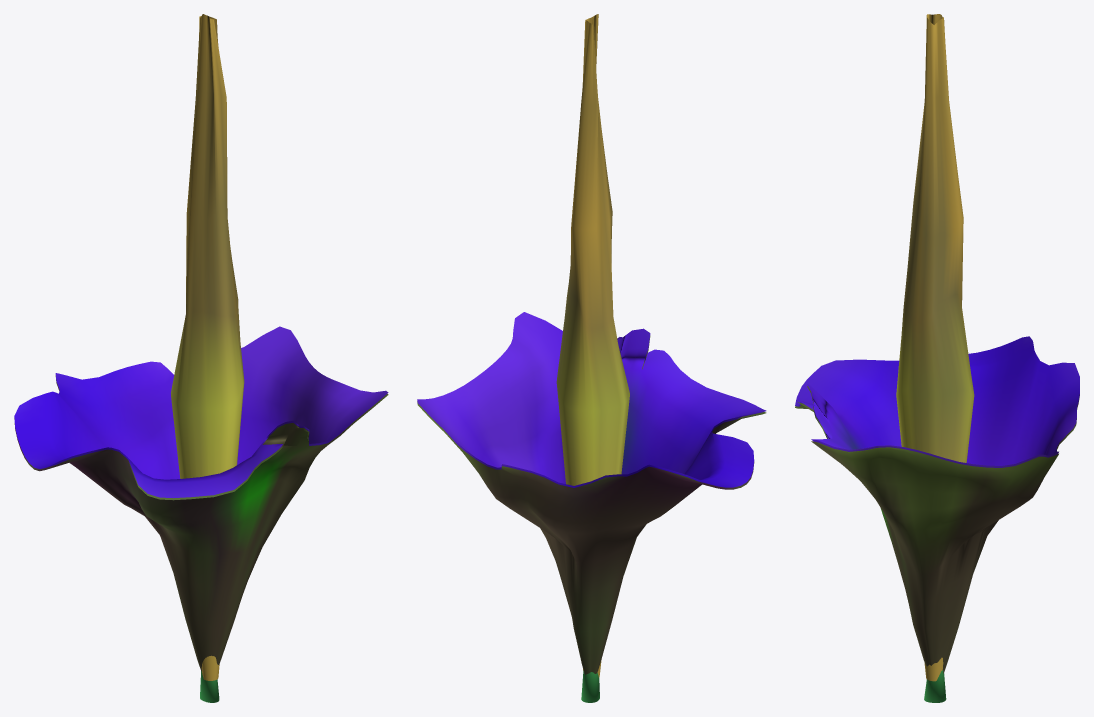
Rendered from Mother Plant.fbx.
3 views of the same model, side by side, from view 1: azimuth 30°, elevation 25°; view 2: azimuth 150°, elevation 25°; view 3: azimuth 270°, elevation 25° (orthographic).
Visible parts, largest first — view 1: Cylinder.003, Cylinder.001, Cylinder; view 2: Cylinder.003, Cylinder.001, Cylinder; view 3: Cylinder.001, Cylinder, Cylinder.003, Cylinder.002.
Boxes of the visible parts, x1=… form: Cylinder.003: x1=14, y1=326, x2=388, y2=498; Cylinder.001: x1=171, y1=14, x2=244, y2=680; Cylinder: x1=14, y1=375, x2=388, y2=671; Cylinder.003: x1=417, y1=312, x2=766, y2=487; Cylinder.001: x1=556, y1=14, x2=629, y2=677; Cylinder: x1=417, y1=336, x2=766, y2=674; Cylinder.001: x1=896, y1=14, x2=974, y2=681; Cylinder: x1=795, y1=386, x2=1079, y2=673; Cylinder.003: x1=795, y1=336, x2=1079, y2=467; Cylinder.002: x1=924, y1=670, x2=946, y2=702.
Size of the model in its own units: 410 by 912 by 345.
